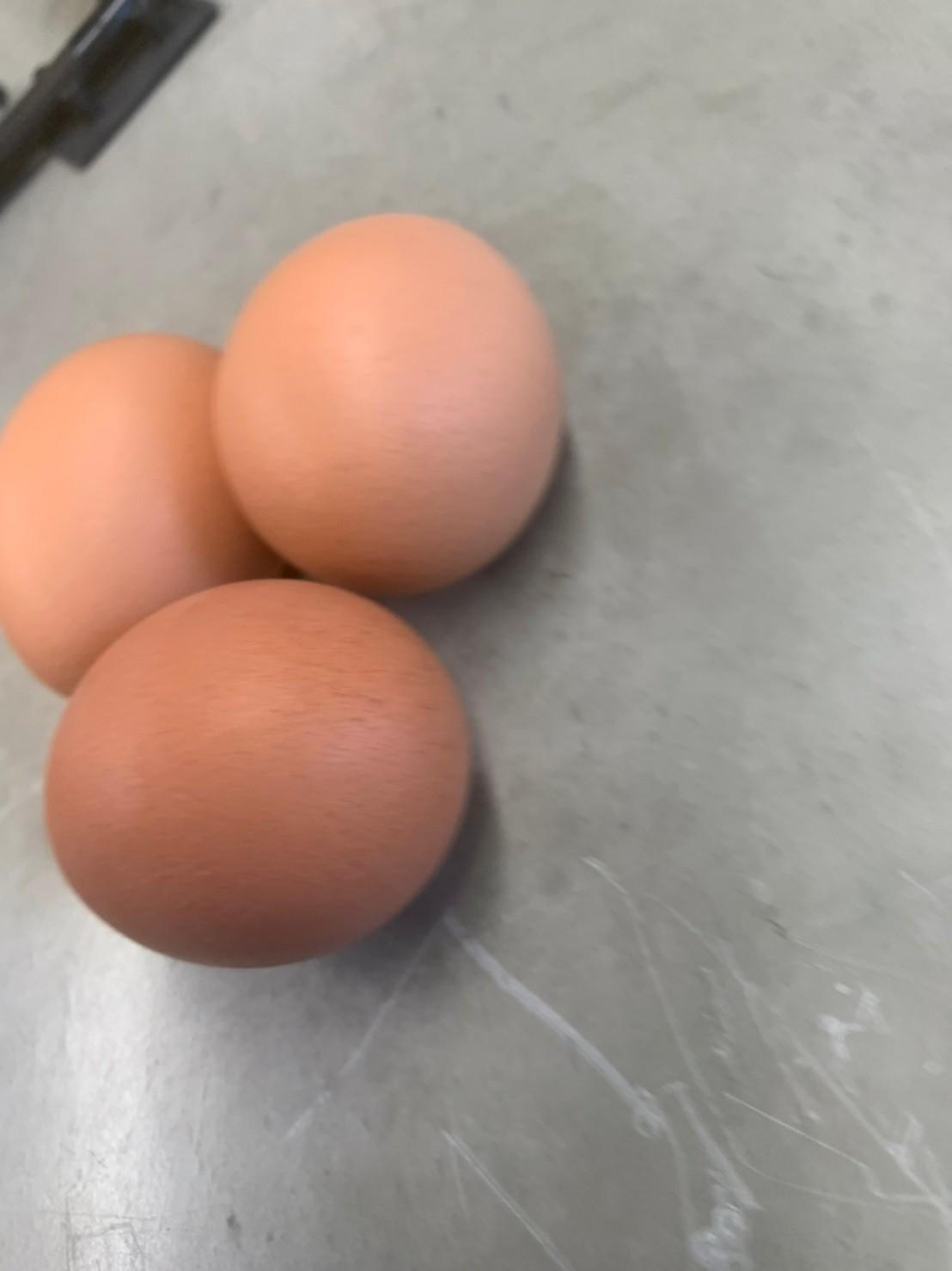egg: (27, 575, 485, 975), (202, 202, 573, 580), (0, 298, 247, 716)
